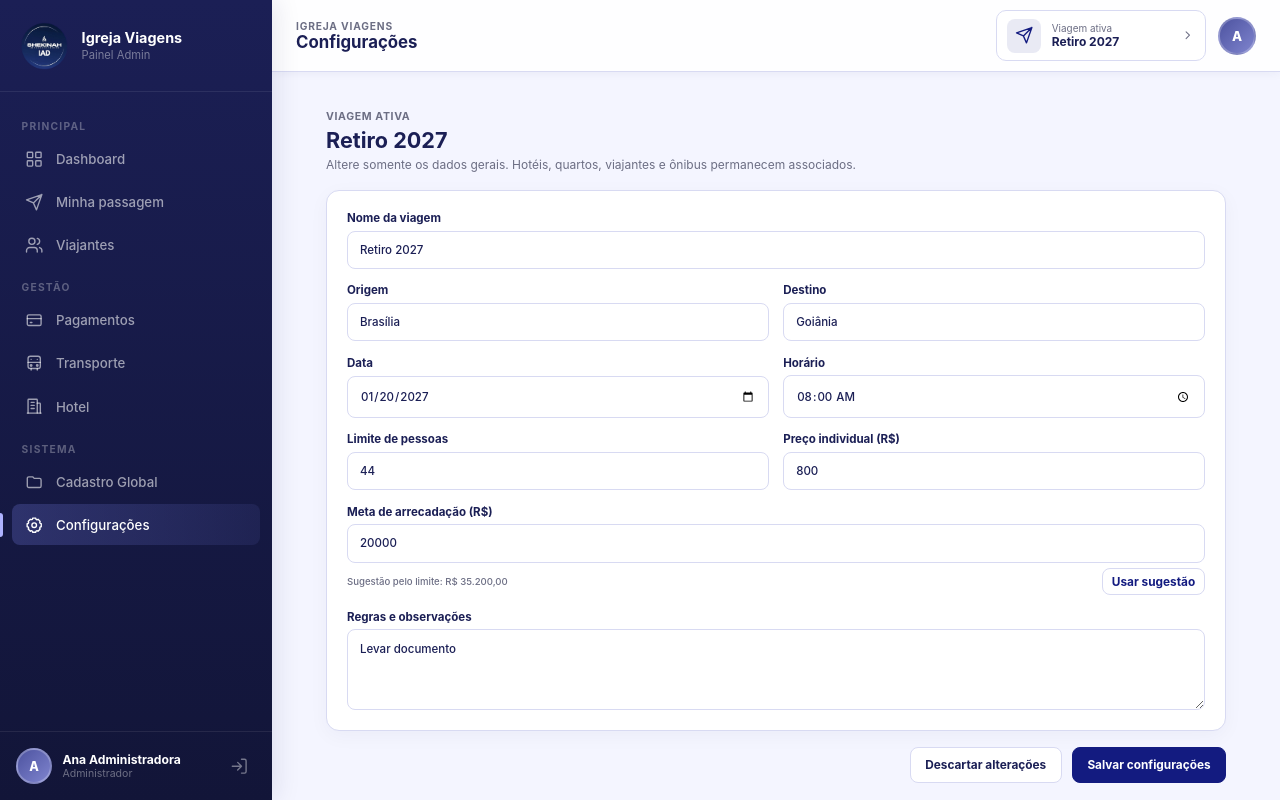
Test case: gestão de viagens e configurações › atualiza Configurações e mantém a mesma viagem ativa
Replace the text in the field labelled "Nome da viagem" with "Retiro atualizado" at (776, 250), box x1=347 y1=231 x2=1205 y2=269
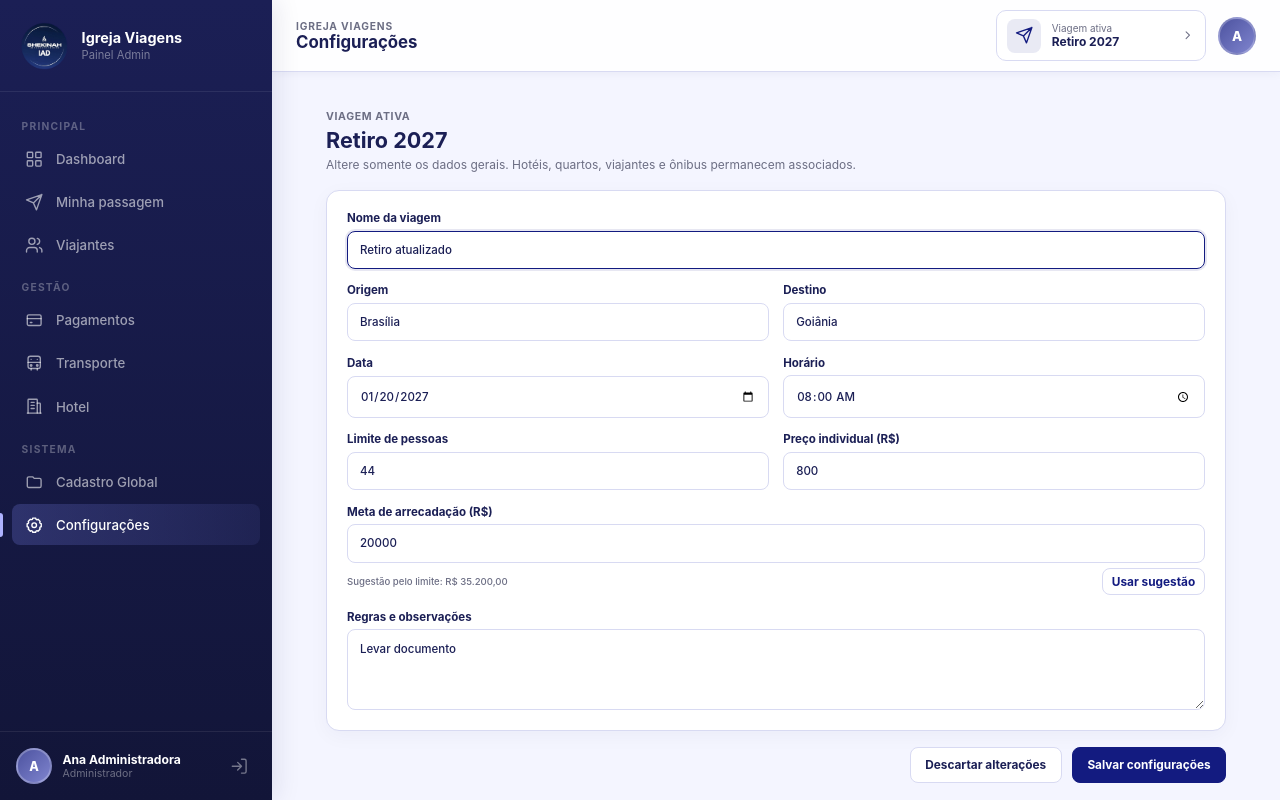
Click the button "Usar sugestão".
click(1154, 582)  # box x1=1102 y1=568 x2=1205 y2=595
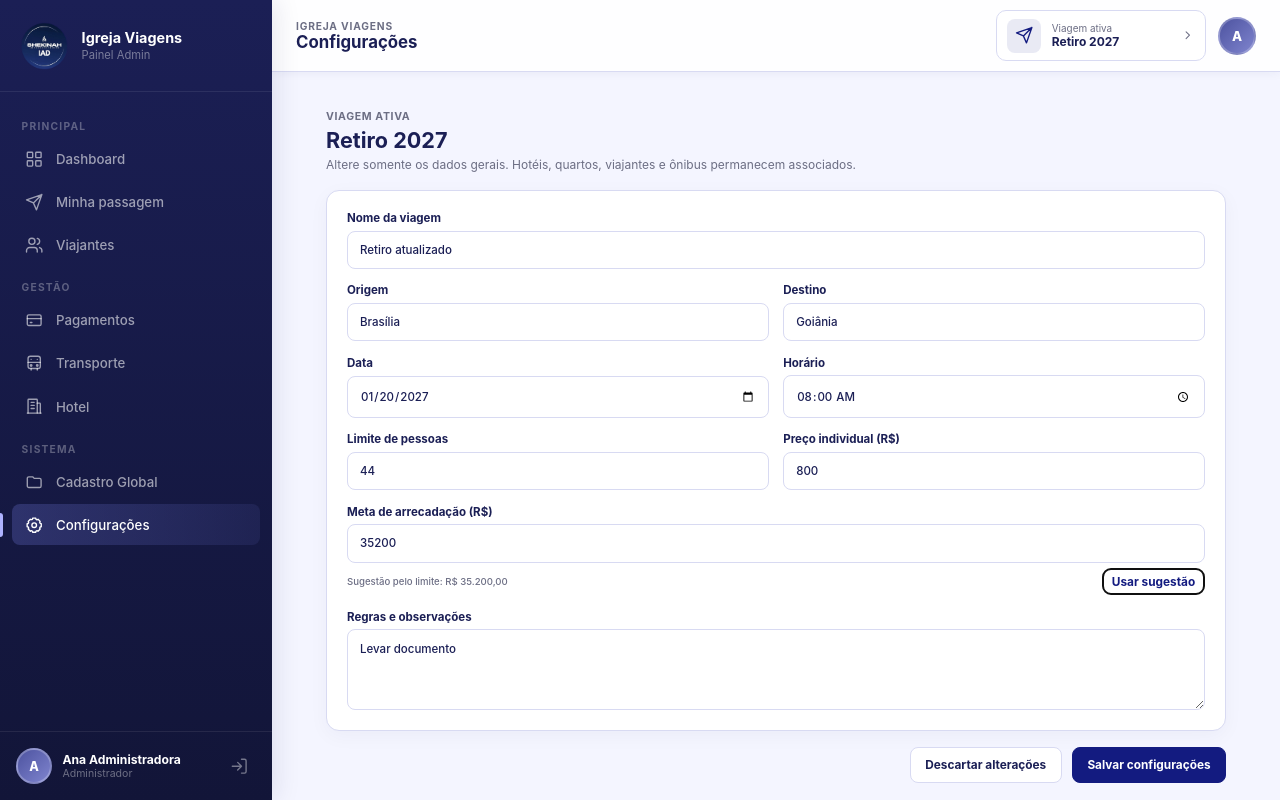
Click the button "Salvar configurações".
click(1149, 765)  # box x1=1072 y1=747 x2=1226 y2=783
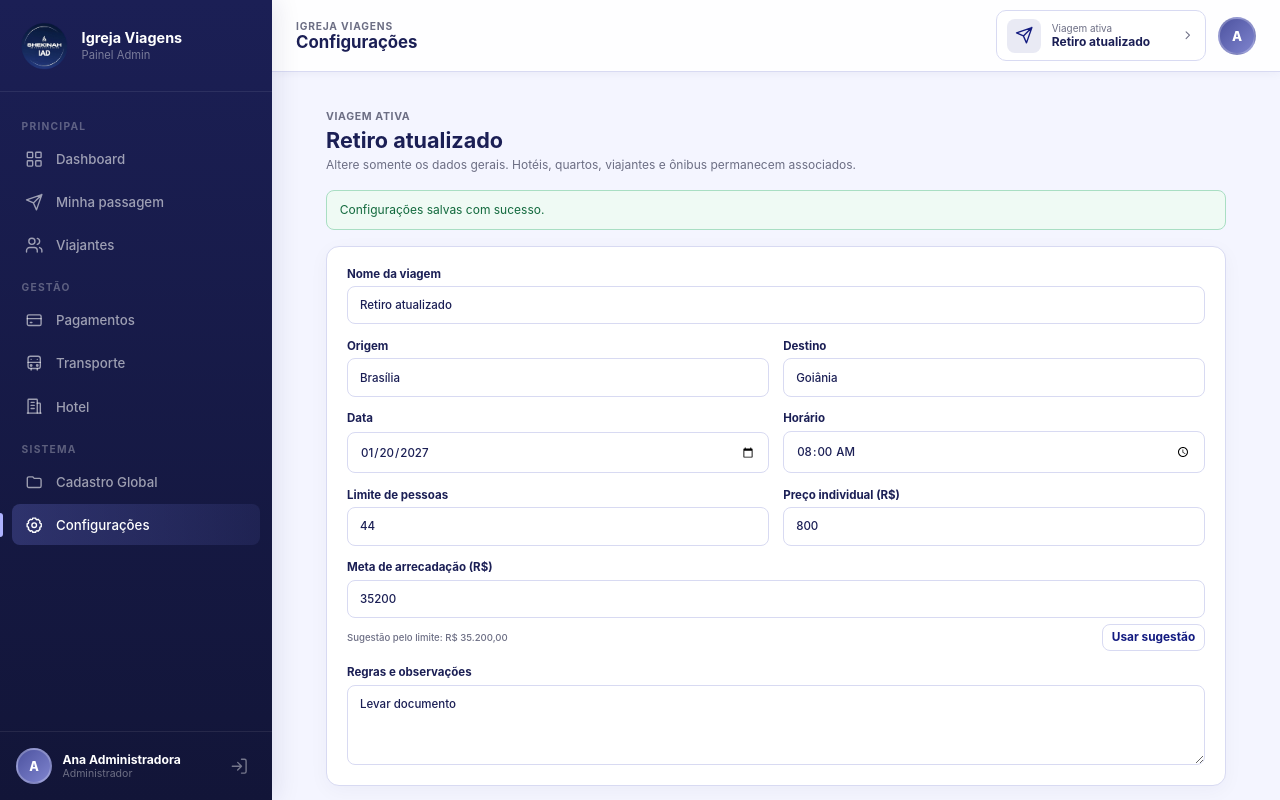
Expected: the text "Configurações salvas com sucesso." is shown, x1=326 y1=190 x2=1226 y2=230
